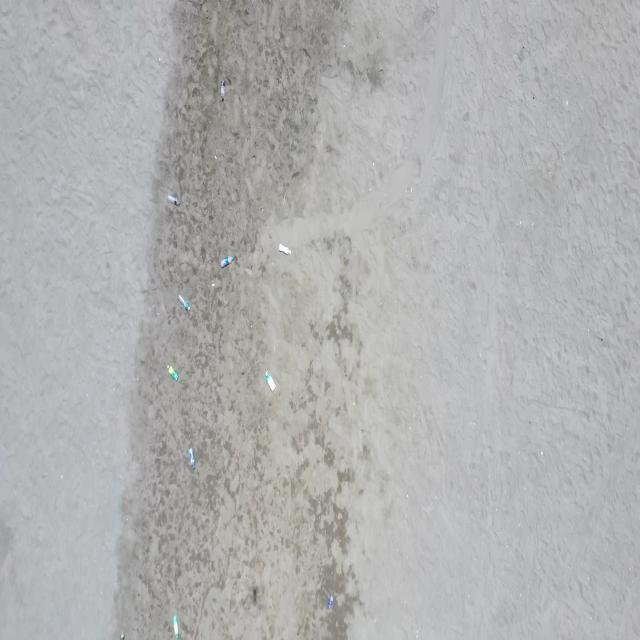Garbage: (264, 371, 275, 391), (178, 295, 190, 311), (187, 447, 195, 471), (167, 364, 178, 380), (220, 256, 236, 267), (172, 615, 179, 639), (167, 193, 178, 204), (279, 243, 289, 253), (220, 80, 224, 100), (252, 587, 256, 603), (327, 595, 332, 607), (211, 281, 215, 287), (120, 633, 123, 639)
